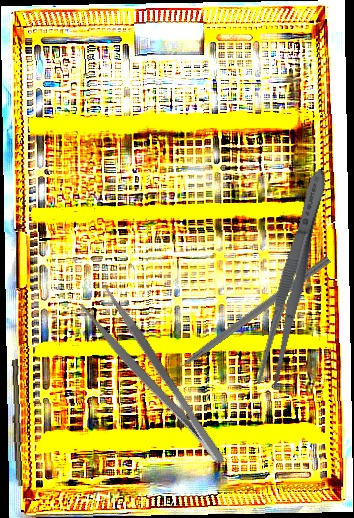Chopper: (154, 246, 332, 383)
Dressing Forceps: (76, 282, 231, 479), (252, 165, 335, 392)
Scalpel Handle: (8, 359, 25, 487)
